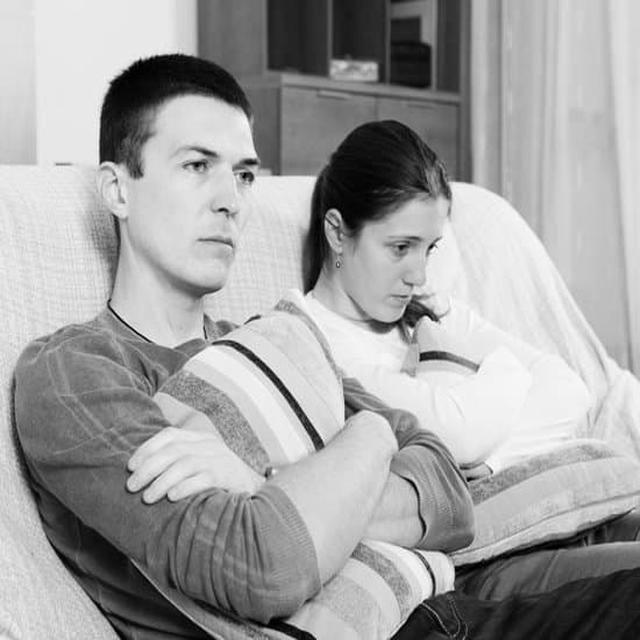Sadness: (162, 100, 261, 290)
